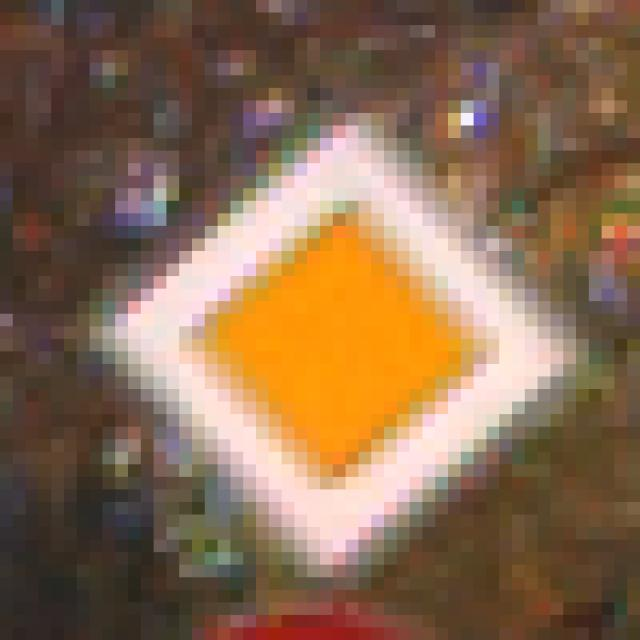Main Road: (78, 64, 564, 566)
